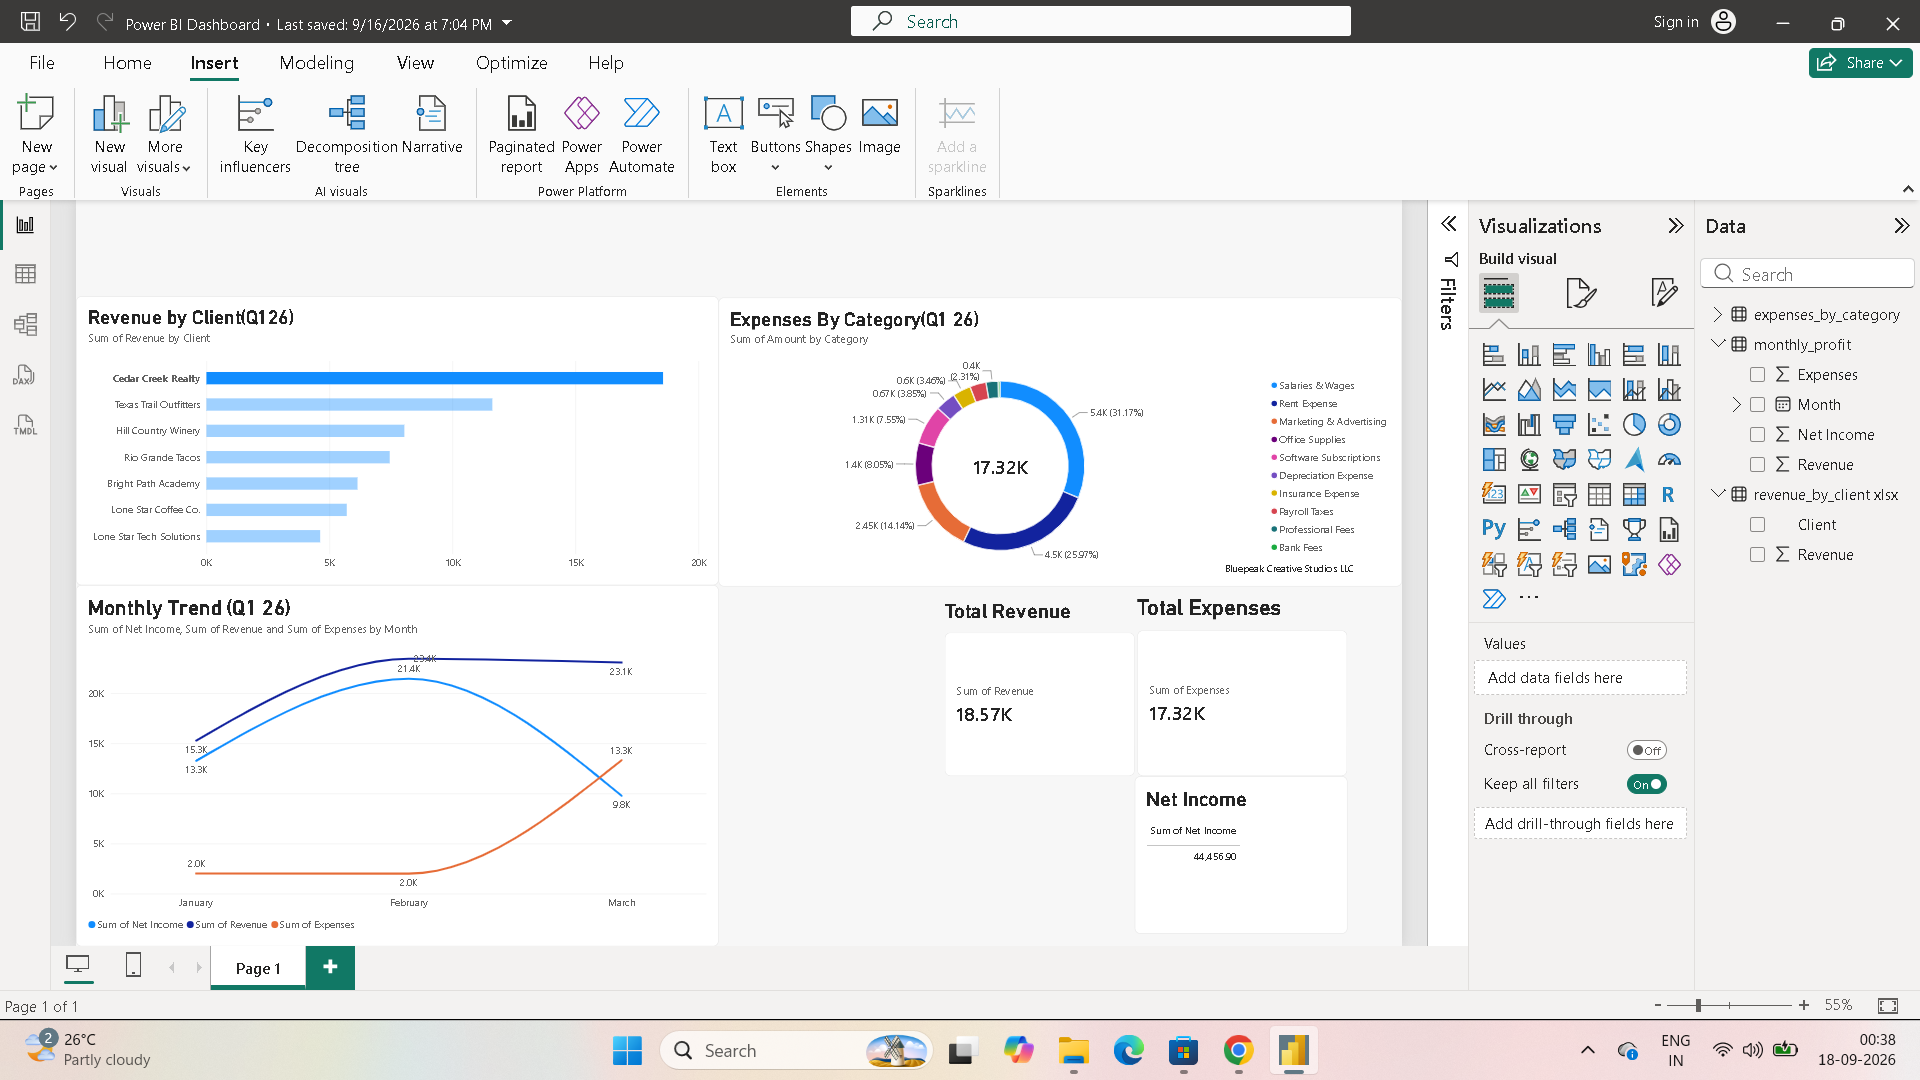

What the dashboard file says about the page in this screenshot:
{"tool":"powerbi","page":{"name":"Page 1","canvas":[1920,1080],"ordinal":0},"visuals":[{"type":"barChart","title":"Revenue by Client(Q126)","fields":{"Category":["revenue_by_client xlsx.Client"],"Y":["Sum(revenue_by_client xlsx.Revenue)"]},"box":[0,139.3,930.2,418],"z":1},{"type":"donutChart","title":"Expenses By Category(Q1 26)","fields":{"Category":["expenses_by_category.Category"],"Y":["Sum(expenses_by_category.Amount)"]},"box":[930.2,141.2,989.9,418],"z":2},{"type":"lineChart","title":"Monthly Trend (Q1 26)","fields":{"Category":["monthly_profit.Month.Variation.Date Hierarchy.Month"],"Y":["Sum(monthly_profit.Net Income)","Sum(monthly_profit.Revenue)","Sum(monthly_profit.Expenses)"]},"box":[0,557.4,930.2,523],"z":3},{"type":"cardVisual","title":"Total Revenue","fields":{"Data":["Sum(revenue_by_client xlsx.Revenue)"]},"box":[1257.7,577.3,275.1,257],"z":4},{"type":"cardVisual","title":"Total Expenses","fields":{"Data":["Sum(monthly_profit.Expenses)"]},"box":[1536.4,571.9,304,262.4],"z":5},{"type":"tableEx","title":"Net Income","fields":{"Values":["Sum(monthly_profit.Net Income)"]},"box":[1532.8,834.3,307.6,228],"z":6},{"type":"textbox","box":[1761,557,159,523],"z":7},{"type":"textbox","box":[1761,557,159,523],"z":8},{"type":"textbox","box":[1761,557,159,523],"z":9},{"type":"textbox","box":[1761,557,159,523],"z":10},{"type":"textbox","box":[1761,557,159,523],"z":11},{"type":"textbox","box":[1761,557,159,523],"z":12},{"type":"textbox","box":[1761,557,159,523],"z":13},{"type":"textbox","box":[1663.1,523,220.8,166.5],"z":15}]}

Visuals, with their boxes on the page's 1920x1080 design canvas (x1, y1, x2, y2). These are canvas units, not pixel positions in the 1920x1080 screenshot, which may show the page scaled, cropped or inside an application window:
"Revenue by Client(Q126)" barChart: bbox(0, 139, 930, 557)
"Expenses By Category(Q1 26)" donutChart: bbox(930, 141, 1920, 559)
"Monthly Trend (Q1 26)" lineChart: bbox(0, 557, 930, 1080)
"Total Revenue" cardVisual: bbox(1258, 577, 1533, 834)
"Total Expenses" cardVisual: bbox(1536, 572, 1840, 834)
"Net Income" tableEx: bbox(1533, 834, 1840, 1062)
textbox: bbox(1761, 557, 1920, 1080)
textbox: bbox(1761, 557, 1920, 1080)
textbox: bbox(1761, 557, 1920, 1080)
textbox: bbox(1761, 557, 1920, 1080)
textbox: bbox(1761, 557, 1920, 1080)
textbox: bbox(1761, 557, 1920, 1080)
textbox: bbox(1761, 557, 1920, 1080)
textbox: bbox(1663, 523, 1884, 690)
